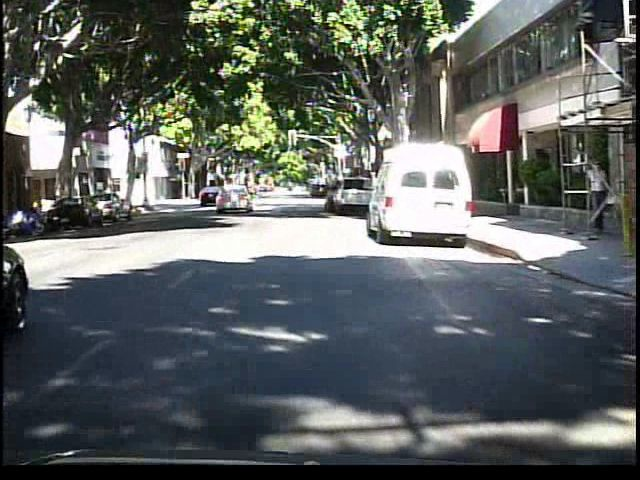person: (579, 154, 609, 236), (243, 175, 260, 207)
